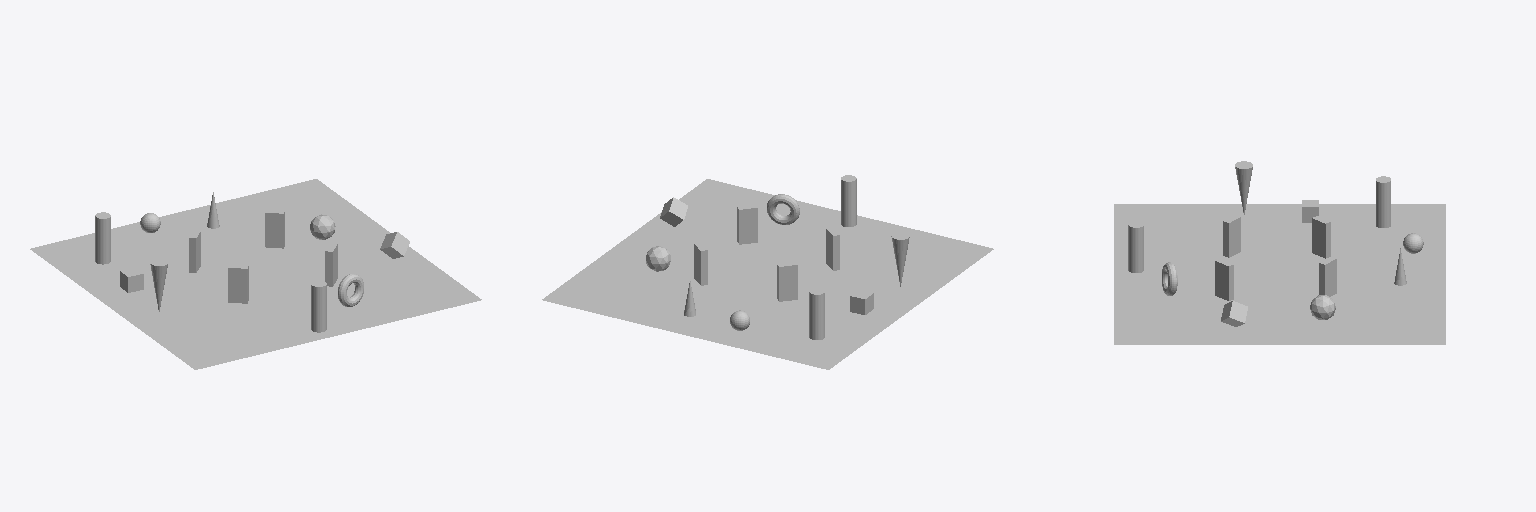
File: environment02.obj
3 views of the same model, side by side, from view 1: azimuth 30°, elevation 25°; view 2: azimuth 150°, elevation 25°; view 3: azimuth 270°, elevation 25° (orthographic).
Visible parts, largest first — view 1: Plane_Plane.001, Cylinder, Cylinder.001, Cube.002_Cube.004, Cube.001_Cube.003, Torus.002, Cube.005_Cube.007, Cone.001; view 2: Plane_Plane.001, Cylinder.001, Cylinder, Cube.003_Cube.005, Cube_Cube.002, Torus.002, Cube.001_Cube.003, Cube.002_Cube.004, Cube.005_Cube.007, Cone.001; view 3: Plane_Plane.001, Cylinder, Cylinder.001, Cube_Cube.002, Cube.003_Cube.005, Cube.002_Cube.004, Cube.001_Cube.003, Cone.001, Cube.005_Cube.007.
Part boxes in pixels (left/top/right/bottom): Plane_Plane.001: left=30, top=179, right=481, bottom=369; Cylinder: left=311, top=280, right=326, bottom=332; Cylinder.001: left=95, top=212, right=110, bottom=264; Cube.002_Cube.004: left=228, top=264, right=248, bottom=303; Cube.001_Cube.003: left=265, top=209, right=284, bottom=248; Torus.002: left=338, top=274, right=363, bottom=306; Cube.005_Cube.007: left=380, top=232, right=409, bottom=258; Cone.001: left=150, top=258, right=168, bottom=311; Plane_Plane.001: left=542, top=179, right=993, bottom=369; Cylinder.001: left=809, top=288, right=824, bottom=339; Cylinder: left=841, top=175, right=856, bottom=226; Cube.003_Cube.005: left=737, top=205, right=757, bottom=244; Cube_Cube.002: left=777, top=262, right=797, bottom=301; Torus.002: left=767, top=194, right=799, bottom=224; Cube.001_Cube.003: left=694, top=242, right=707, bottom=285; Cube.002_Cube.004: left=826, top=228, right=839, bottom=270; Cube.005_Cube.007: left=660, top=197, right=687, bottom=226; Cone.001: left=891, top=232, right=909, bottom=286; Plane_Plane.001: left=1114, top=204, right=1445, bottom=344; Cylinder: left=1128, top=221, right=1143, bottom=272; Cylinder.001: left=1376, top=176, right=1390, bottom=227; Cube_Cube.002: left=1312, top=216, right=1330, bottom=258; Cube.003_Cube.005: left=1215, top=259, right=1233, bottom=300; Cube.002_Cube.004: left=1223, top=215, right=1240, bottom=257; Cube.001_Cube.003: left=1319, top=257, right=1336, bottom=296; Cone.001: left=1235, top=161, right=1252, bottom=214; Cube.005_Cube.007: left=1221, top=301, right=1247, bottom=326.
Size of the model in its own units: 17.22 by 3.99 by 17.22.